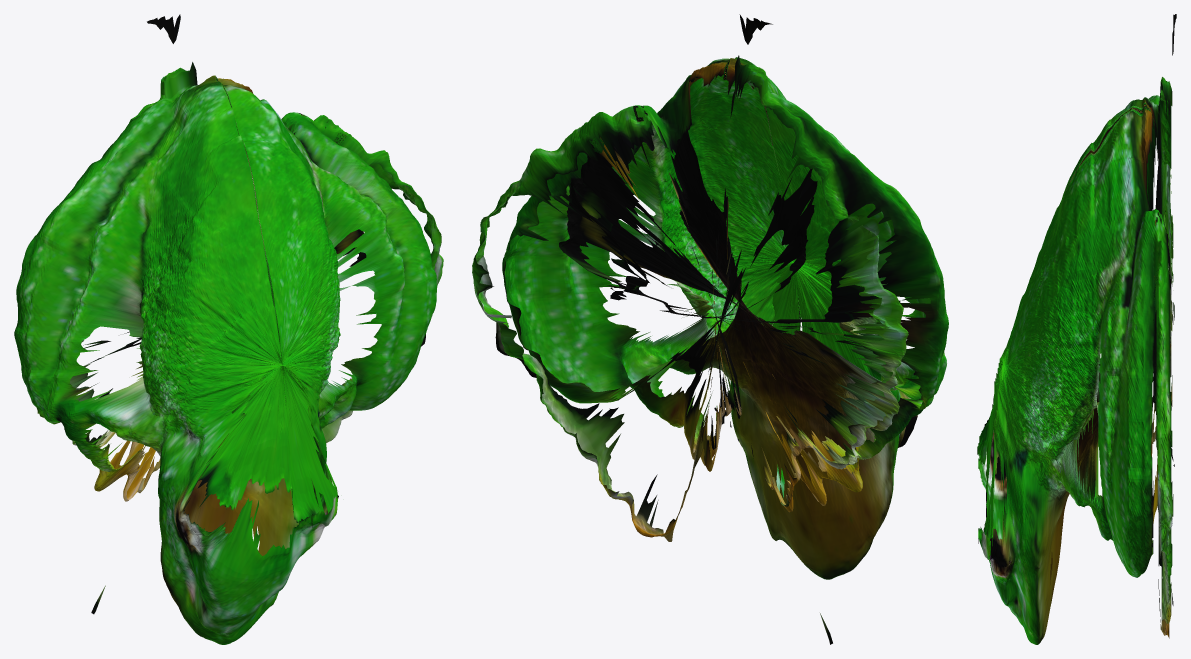
3 views of the same model, side by side, from view 1: azimuth 30°, elevation 25°; view 2: azimuth 150°, elevation 25°; view 3: azimuth 270°, elevation 25° (orthographic). The views are drawn at different scales.
Visible parts, largest first — view 1: geometry_0; view 2: geometry_0; view 3: geometry_0.
Boxes of the visible parts, left/top/right/bottom form: geometry_0: left=14, top=14, right=443, bottom=644; geometry_0: left=472, top=14, right=948, bottom=644; geometry_0: left=977, top=14, right=1176, bottom=644.
Size of the model in its own units: 1.51 by 1.9 by 0.5519.
Materials: 1 (1 with a texture image).
